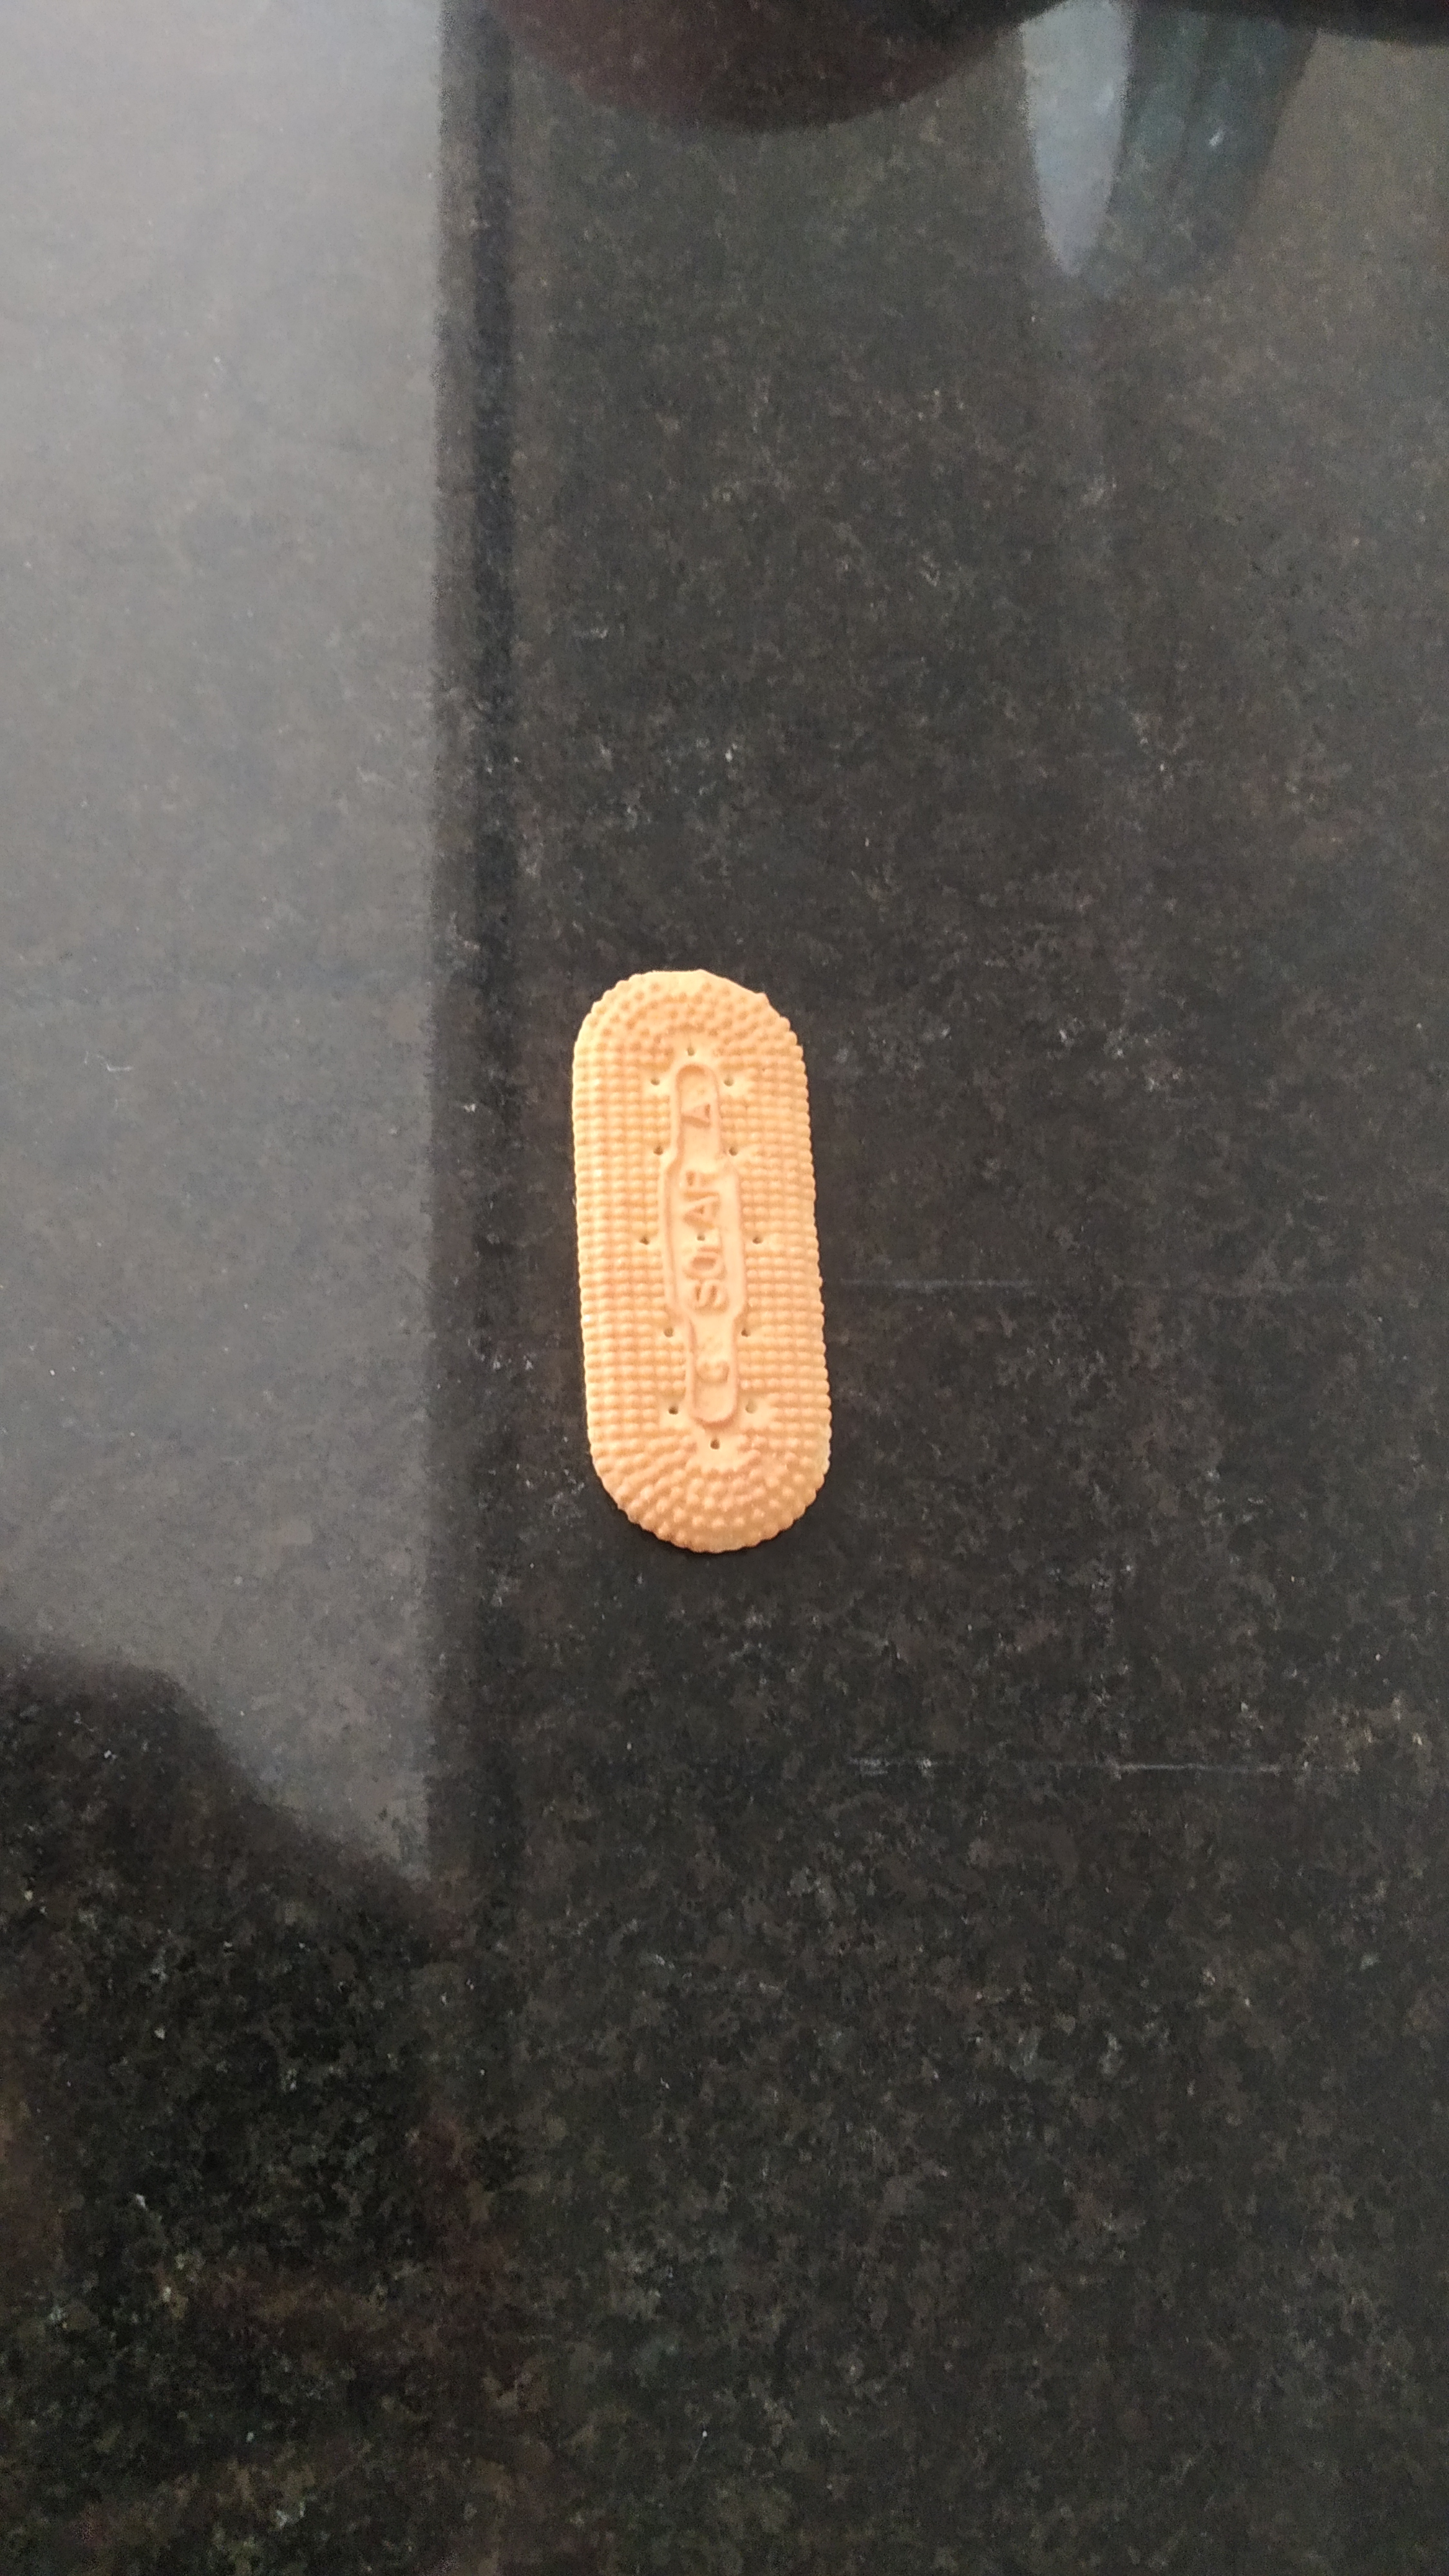solar: (571, 970, 833, 1553)
